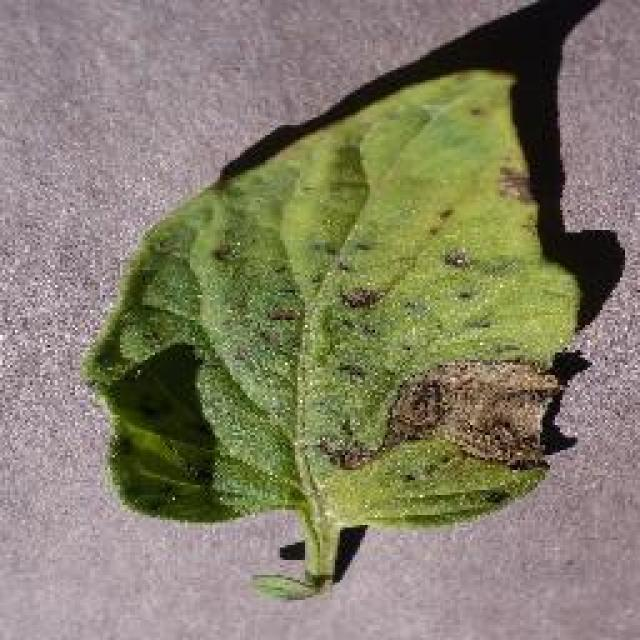Tomato Early blight leaf: (79, 62, 579, 592)
